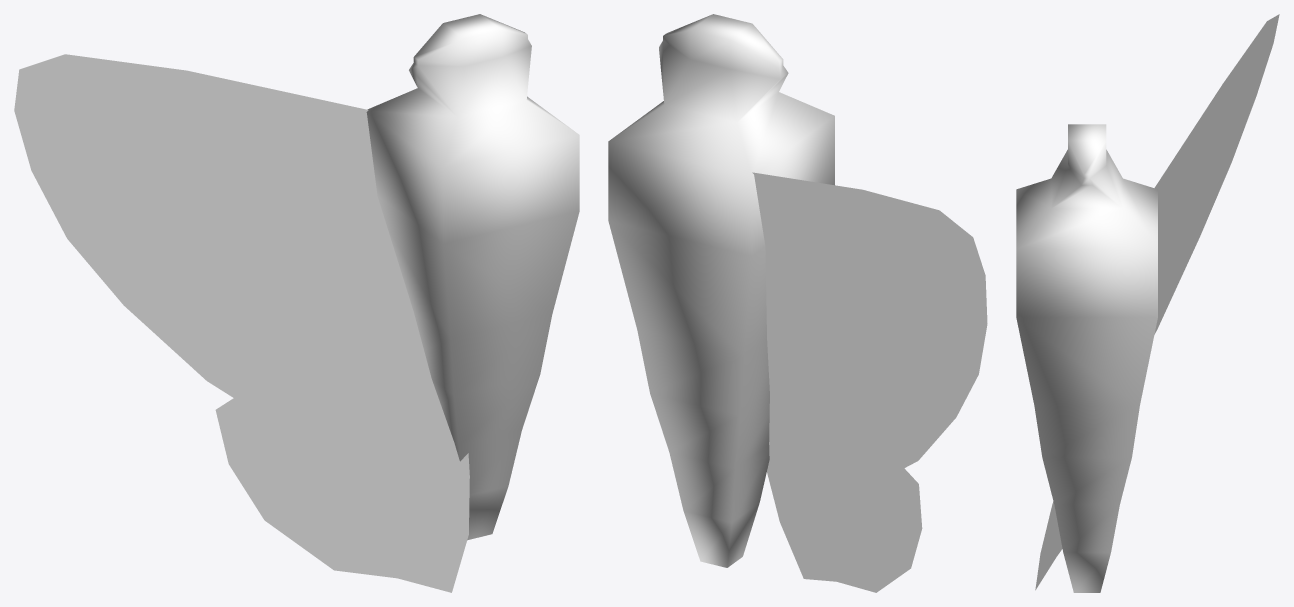
Rendered from mothtest2.glb.
3 renders of one model, left to right at view 1: azimuth 30°, elevation 25°; view 2: azimuth 150°, elevation 25°; view 3: azimuth 270°, elevation 25°, orthographic. The views are drawn at different scales.
Parts seen in each view (by area): view 1: Plane, Cube; view 2: Plane, Cube; view 3: Cube, Plane.
Boxes of the visible parts, x1=… form: Plane: x1=14, y1=54, x2=469, y2=592; Cube: x1=366, y1=14, x2=579, y2=540; Plane: x1=752, y1=172, x2=987, y2=592; Cube: x1=608, y1=14, x2=834, y2=567; Cube: x1=1016, y1=124, x2=1157, y2=592; Plane: x1=1035, y1=14, x2=1279, y2=590.
Bounding box in the file's own units: 1.54 × 1.86 × 0.9232.
Materials: 1 (1 with a texture image).
